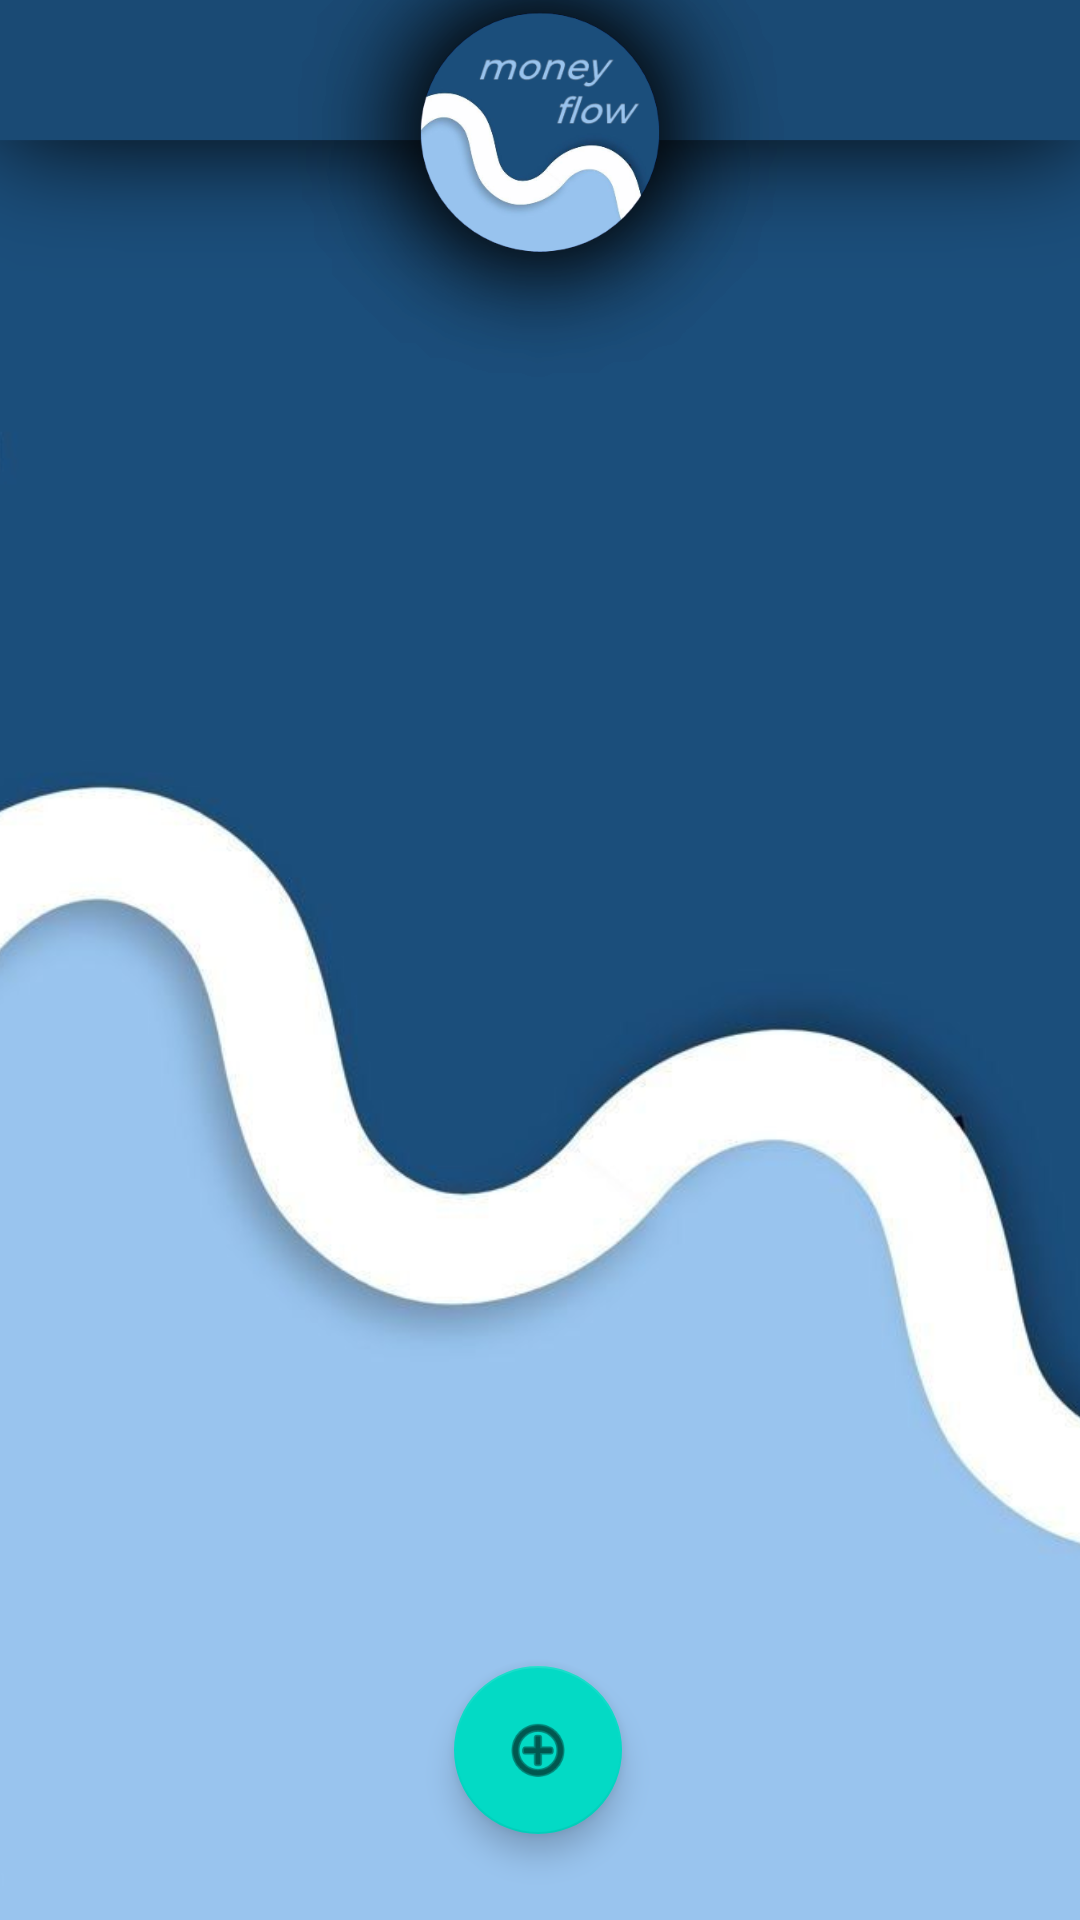

Icon click points for this 1080px×1920px phone screenshot, format (x=x, y=y):
add: (x=538, y=1750)
